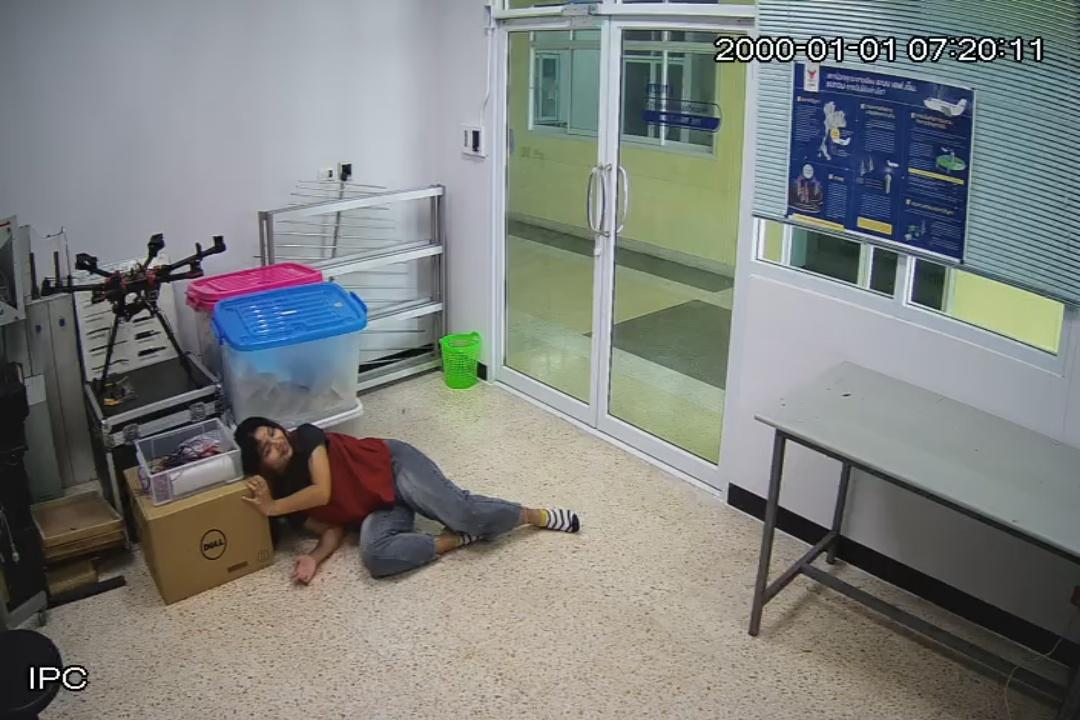fall: (230, 417, 585, 587)
